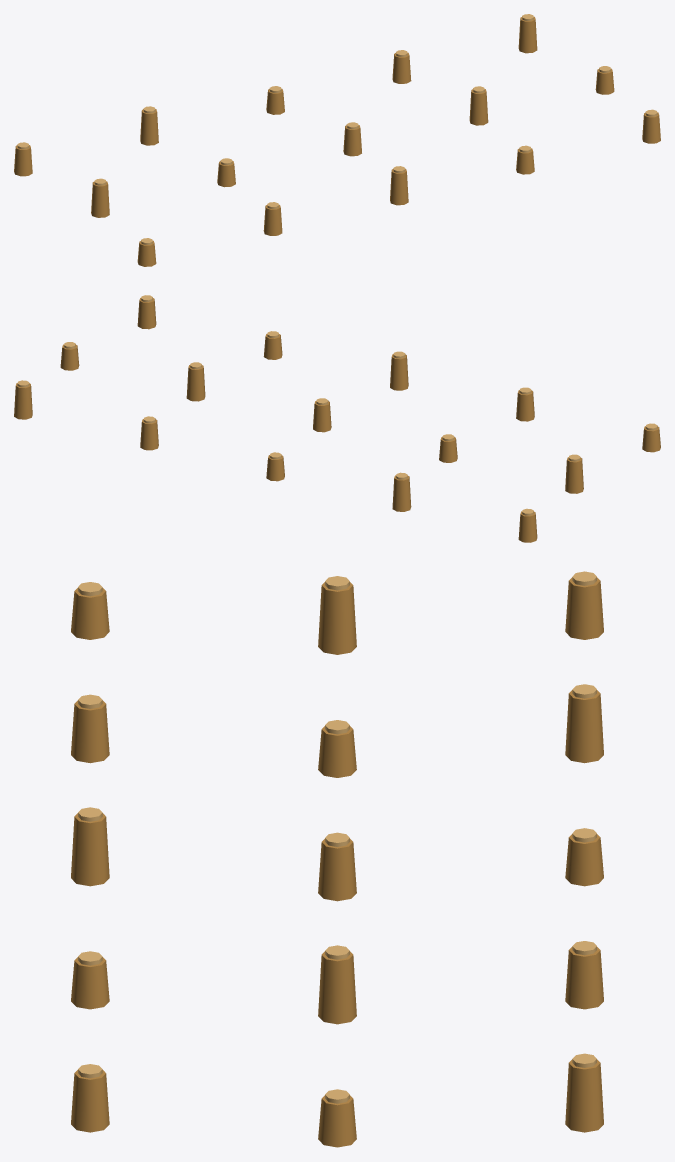
The model's file is Field_Cut_Stubble.fbx.
The picture shows the model from 3 angles, top to bottom: view 1: azimuth 30°, elevation 25°; view 2: azimuth 150°, elevation 25°; view 3: azimuth 270°, elevation 25°; orthographic projection. The views are drawn at different scales.
Parts seen in each view (by area): view 1: Body; view 2: Body; view 3: Body.
Boxes of the visible parts, box(x1,y1,x2,y2) form: Body: box(14, 14, 660, 266); Body: box(14, 295, 660, 542); Body: box(71, 571, 603, 1147).
Bounding box in the file's own units: 1.4 × 0.082 × 0.604.
